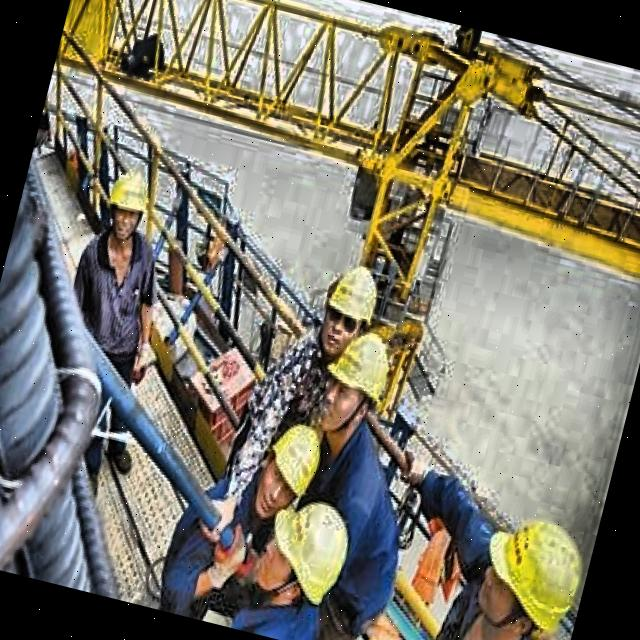helmet: (458, 495, 598, 640), (242, 486, 358, 625), (306, 318, 404, 443), (246, 410, 333, 532), (304, 252, 388, 366), (93, 160, 161, 256)
